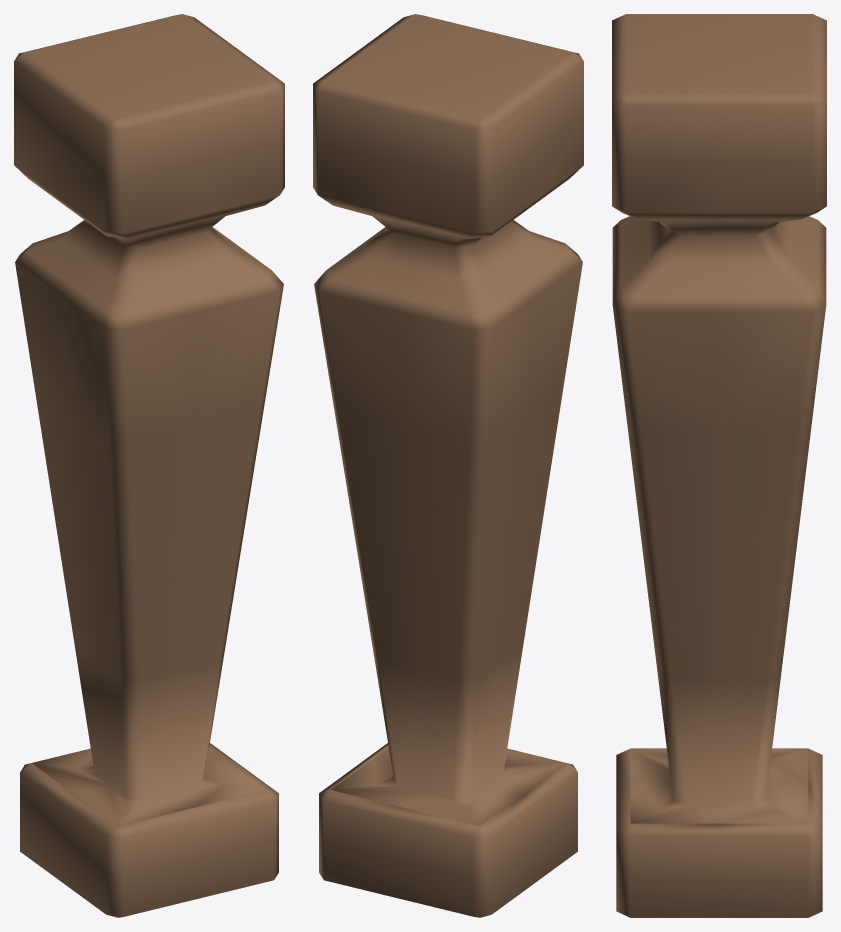
Rendered from props_rembarde.fbx.
The picture shows the model from 3 angles, left to right: view 1: azimuth 30°, elevation 25°; view 2: azimuth 150°, elevation 25°; view 3: azimuth 270°, elevation 25°; orthographic projection. The views are drawn at different scales.
Parts seen in each view (by area): view 1: Rembarde; view 2: Rembarde; view 3: Rembarde.
Boxes of the visible parts, left/top/right/bottom form: Rembarde: left=14, top=14, right=284, bottom=917; Rembarde: left=313, top=14, right=583, bottom=917; Rembarde: left=612, top=14, right=826, bottom=917.
Size of the model in its own units: 0.6342 by 0.6342 by 2.69.
